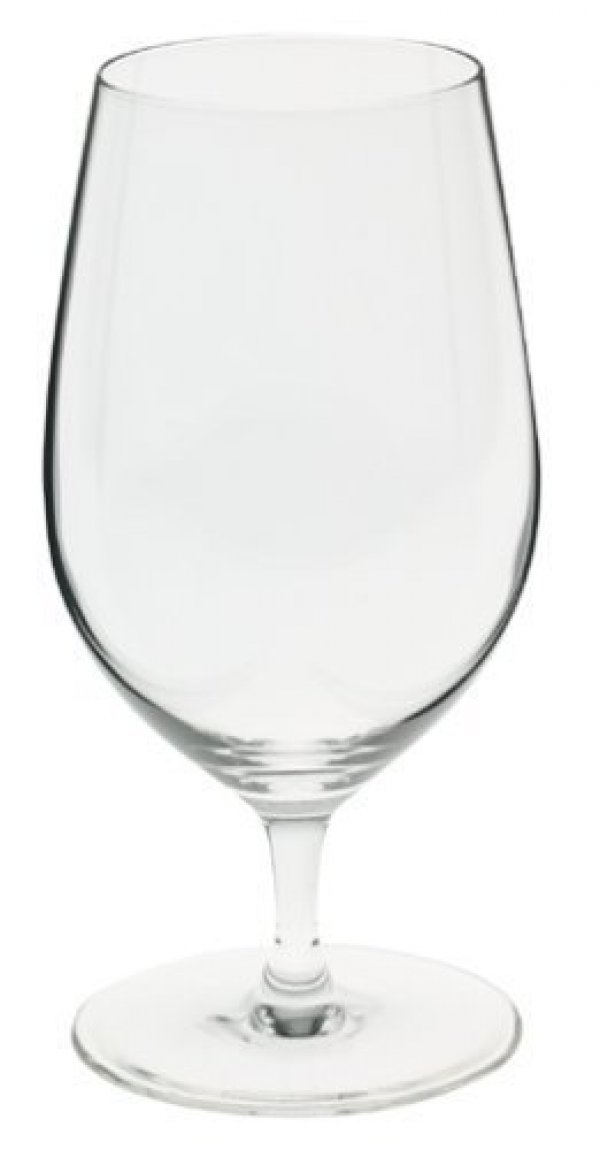glass of water: (68, 45, 534, 1115)
